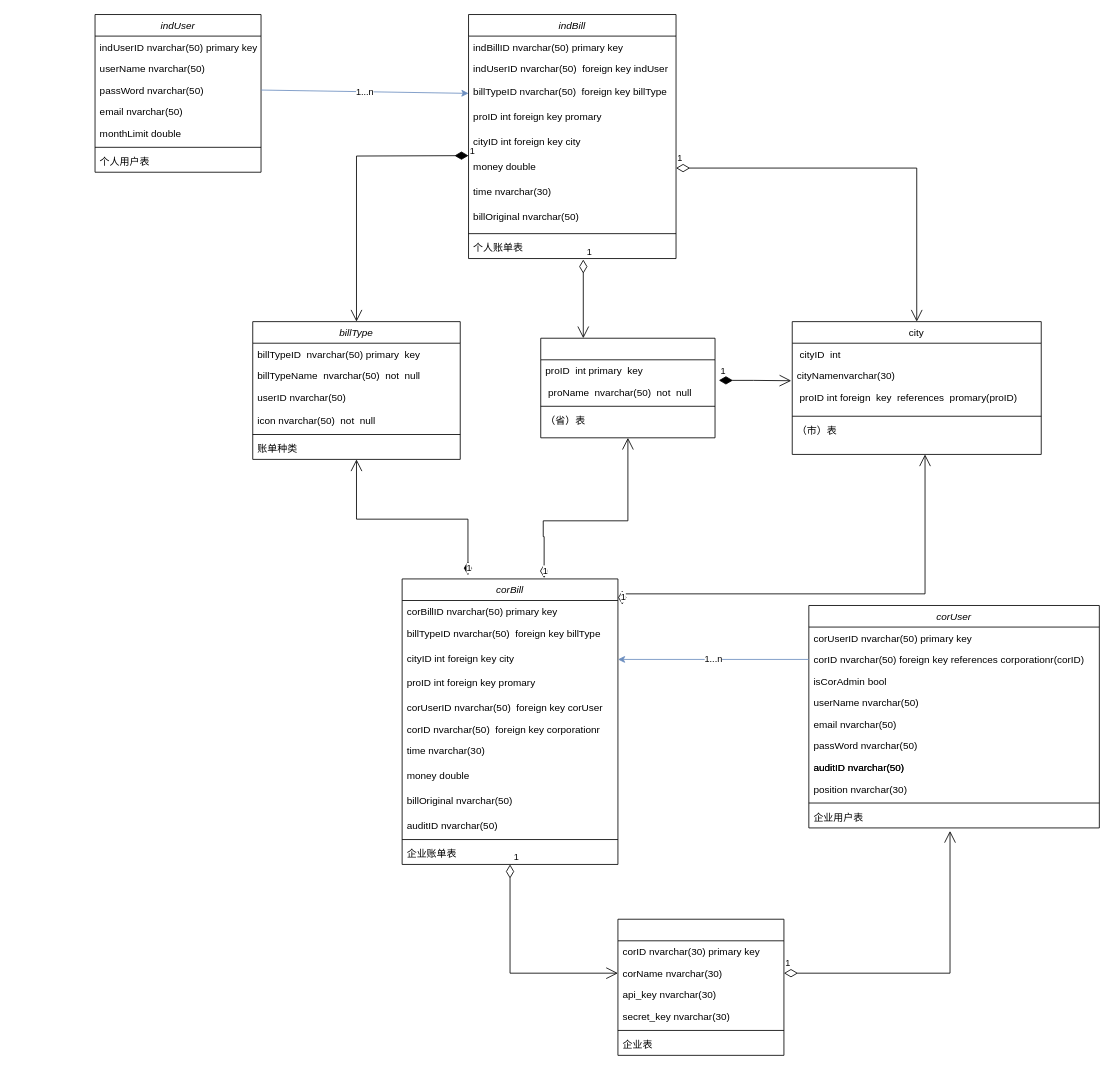
The diagram is 1114 pixels wide and 1072 high, and some of its shapes have lost their labels. The shapes that lost their labels are listed below. From the top down, each one's box as (x1, y1, x2, y2) in pixels, then its label:
(540, 337, 715, 438): promary
(617, 918, 784, 1055): corporationr
